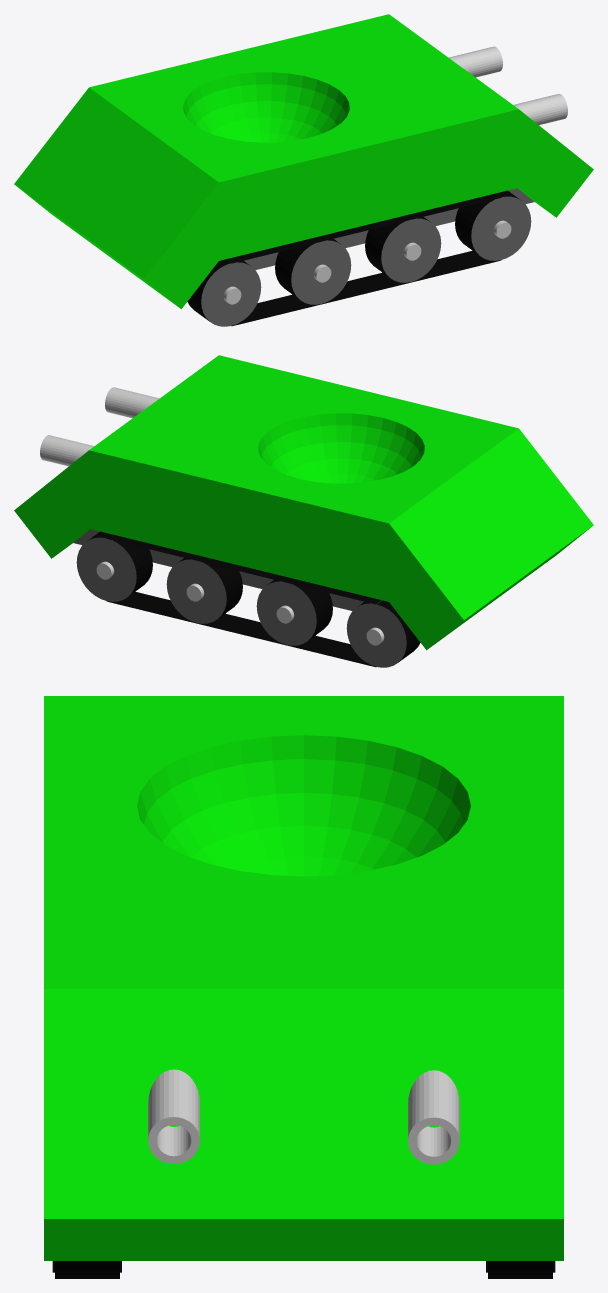
Rendered from Body_Green.fbx.
The picture shows the model from 3 angles, top to bottom: view 1: azimuth 30°, elevation 25°; view 2: azimuth 150°, elevation 25°; view 3: azimuth 270°, elevation 25°; orthographic projection. The views are drawn at different scales.
Visible parts, largest first — view 1: Cube; view 2: Cube; view 3: Cube.
Part boxes in pixels (bbox=[...]): Cube: bbox=[14, 14, 593, 326]; Cube: bbox=[14, 355, 593, 667]; Cube: bbox=[44, 696, 563, 1278].
Size of the model in its own units: 600 by 190 by 300.
